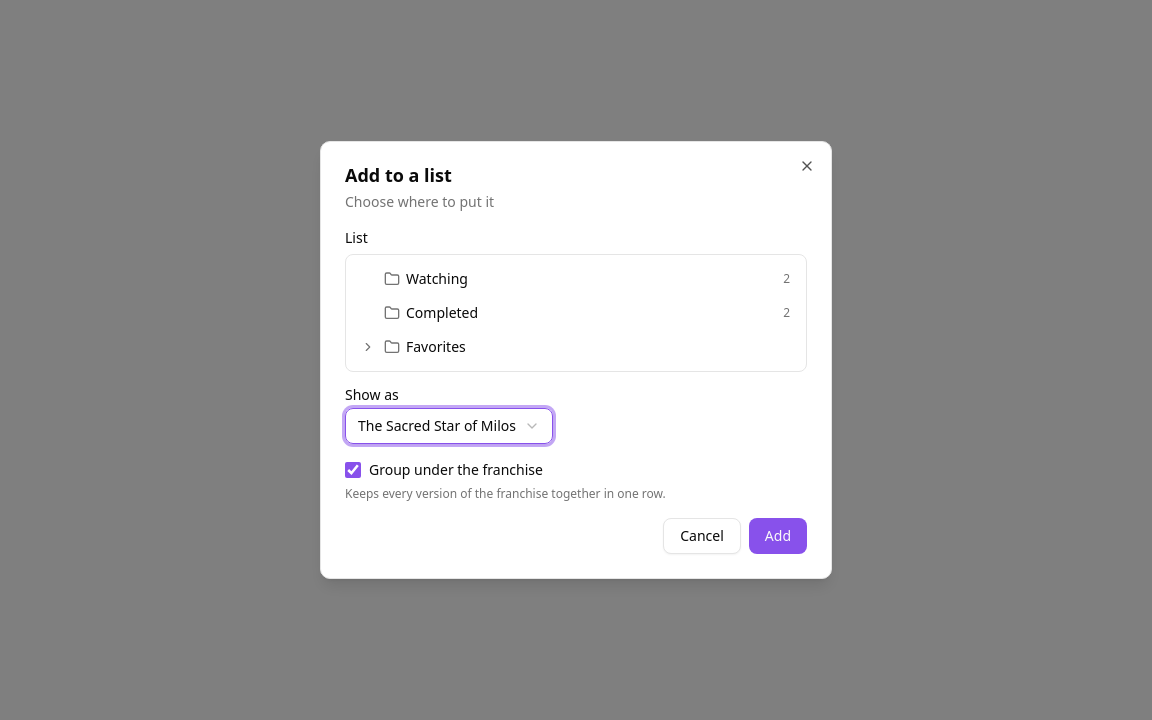
LinkWizard › no manda nada si no se eligió carpeta
Check: the list is shown, box 354,263 -> 798,363
Click the button "Add".
click(778, 536)  # box 749,518 -> 807,554
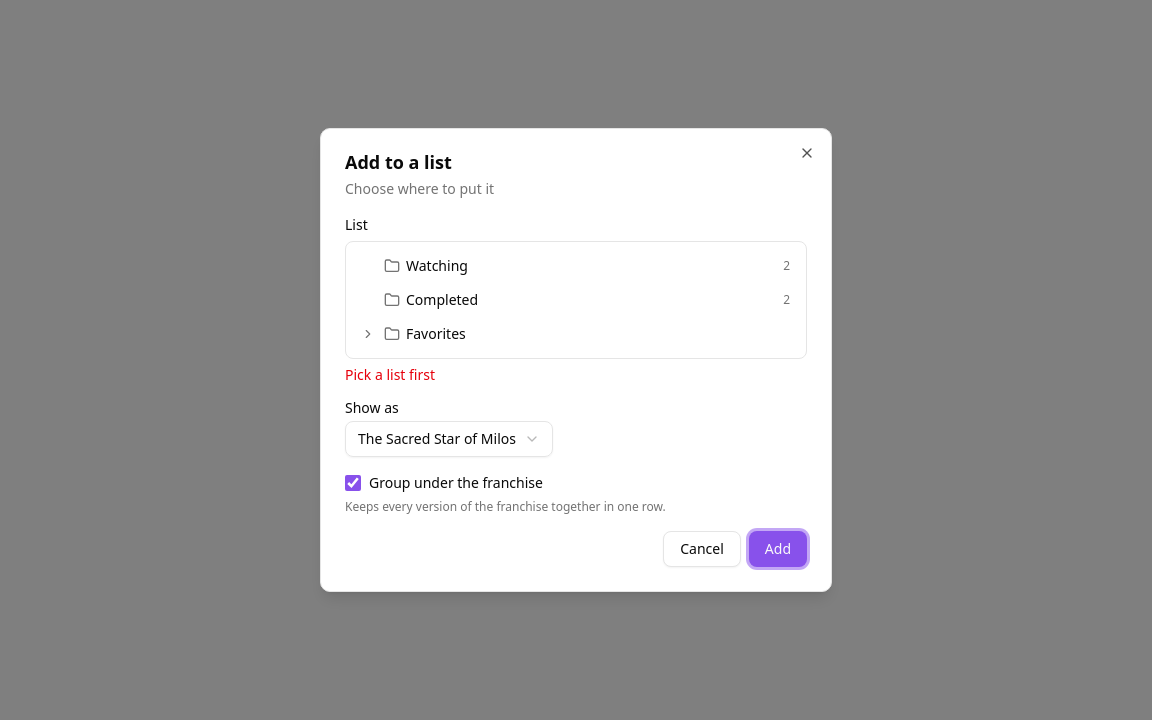
Check: the text "Pick a list first" is shown, box 345,365 -> 435,384
